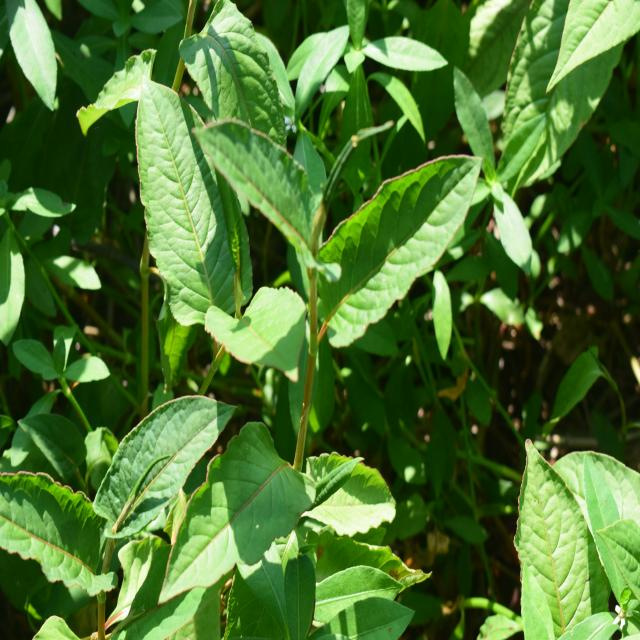Chinese_knotweed: (214, 121, 467, 578), (0, 381, 221, 621)
